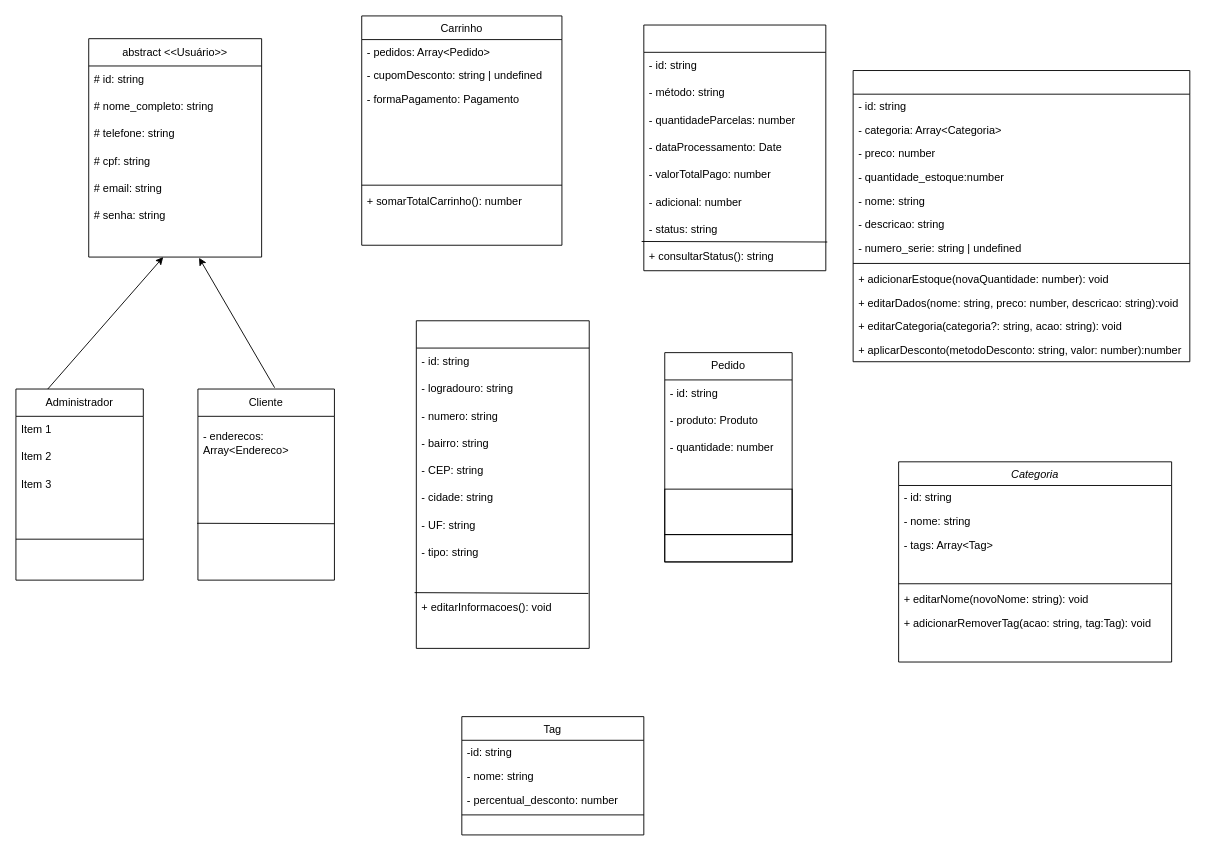
The diagram is 1206 pixels wide and 851 high, and some of its shapes have lost their labels. The shapes that lost their labels are listed below. From the top down, each one's box as (x1, y1, x2, y2) in pixels, then its label:
(643, 24, 826, 271): Pagamento
(852, 70, 1190, 362): Produto
(415, 320, 589, 648): Endereco
(664, 488, 792, 535): + somarTotalPedido(): number
